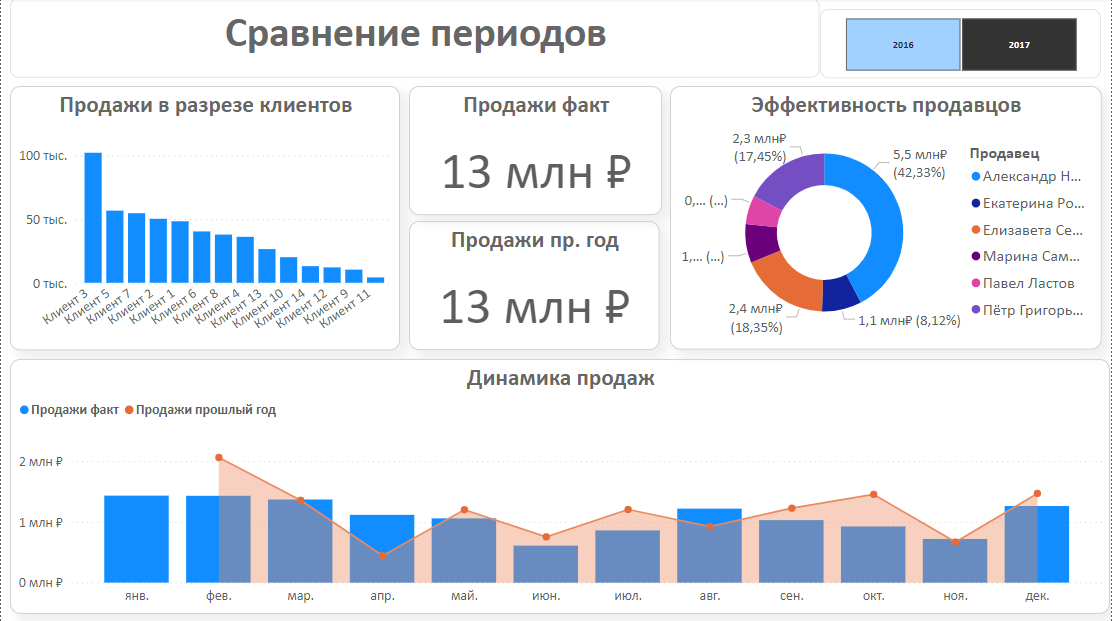

What the dashboard file says about the page in this screenshot:
{"tool":"powerbi","page":{"name":"Страница 1","canvas":[1280,720],"ordinal":0},"visuals":[{"type":"clusteredBarChart","title":"Продажи в разрезе клиентов","fields":{"Category":["Клиенты.Название клиента"],"Y":["Sum(Продажи.Цена продажи за единицу)","Sum(Продажи.Цена продажи за единицу (план))"]},"box":[10.4,101.5,465,305.8],"z":0},{"type":"card","title":"Продажи факт","fields":{"Values":["Sum(Продажи.Цена продажи)"]},"box":[488.3,257,318.2,149.3],"z":1000},{"type":"card","title":"Продажи план","fields":{"Values":["Sum(Продажи.Цена продажи (план))"]},"box":[485.4,101.1,320.9,150.4],"z":2000},{"type":"areaChart","title":"Динамика продаж","fields":{"Category":["Продажи.Дата доставки.Изменение.Иерархия дат.Год"],"Y":["Sum(Продажи.Цена продажи (план))","Продажи.Продажи факт"]},"box":[10.6,416.1,1269.4,304.4],"z":3000},{"type":"donutChart","title":"Эффективность продавцов","fields":{"Y":["Sum(Продажи.Цена продажи)"],"Category":["Продавцы.ИД продавца"]},"box":[816.9,101.1,452.5,304.4],"z":4000},{"type":"textbox","box":[214.3,0,865.6,91.7],"z":5000}]}

Visuals, with their boxes in screenshot pixels (x1, y1, x2, y2), scaled from the page's 1280x720 canvas onto the 1112x621 screenshot:
"Продажи в разрезе клиентов" clusteredBarChart: [9,88,413,351]
"Продажи факт" card: [424,222,701,350]
"Продажи план" card: [422,87,700,217]
"Динамика продаж" areaChart: [9,359,1111,620]
"Эффективность продавцов" donutChart: [710,87,1103,350]
textbox: [186,0,938,79]
